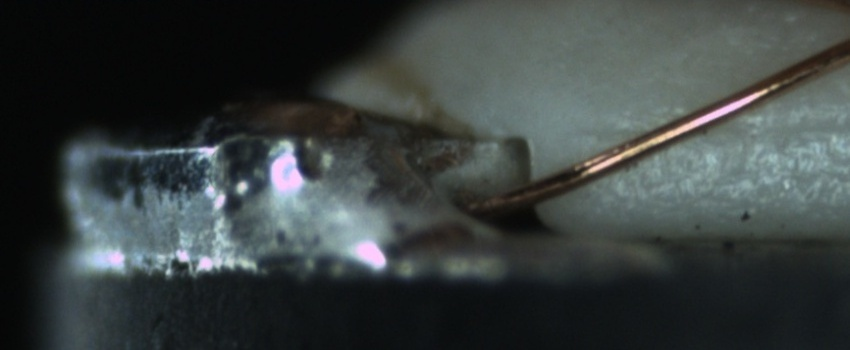DL: (604, 95, 849, 160)
